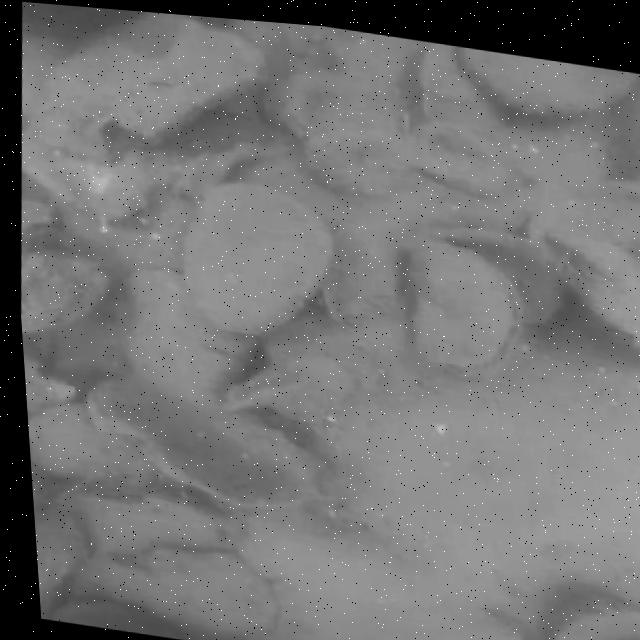Oyster-Closed: (82, 378, 308, 512), (535, 232, 640, 347), (261, 67, 403, 136), (219, 406, 337, 480), (406, 122, 508, 195)
Oyster-Indeterminate: (36, 21, 263, 155), (181, 181, 327, 332), (78, 550, 278, 639), (111, 270, 243, 403), (456, 47, 635, 114), (28, 404, 151, 480), (79, 496, 236, 552), (21, 247, 107, 331), (306, 128, 409, 196), (421, 46, 494, 129), (34, 508, 82, 612), (52, 599, 181, 631)
Oyster-Open: (409, 240, 511, 375)
